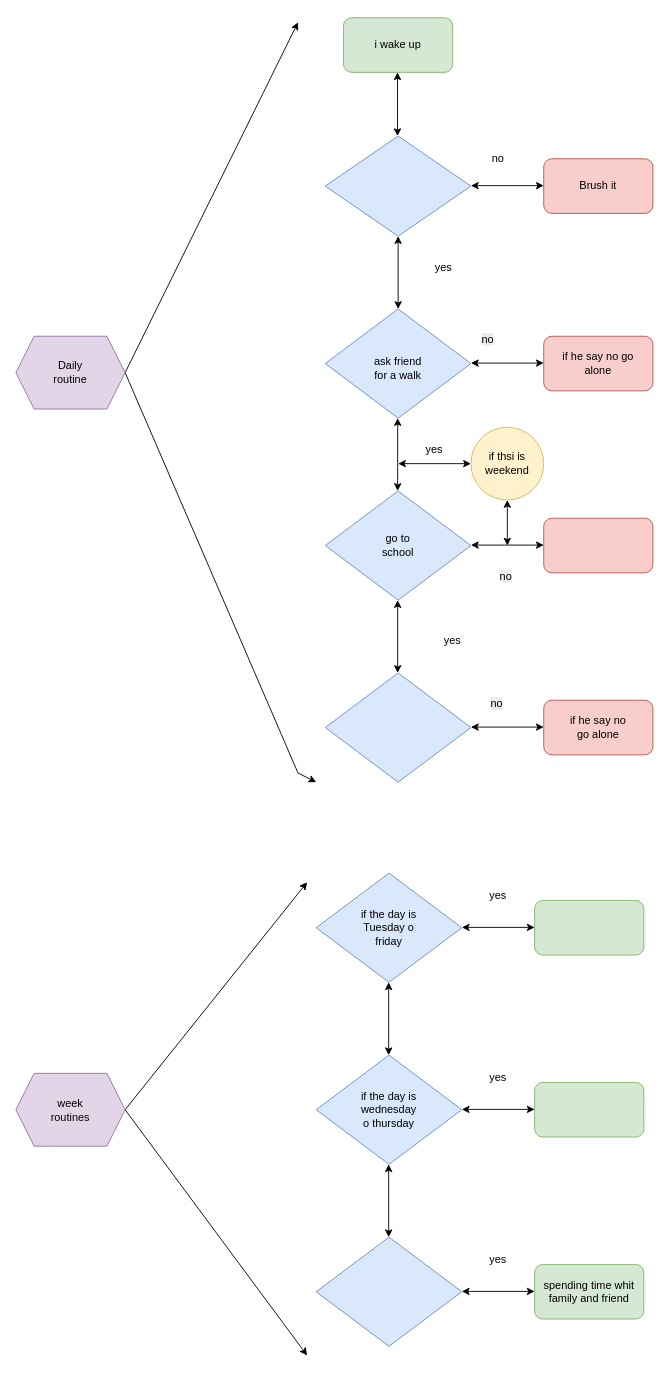
Some shapes in this 669 by 1380 pixel diagram are drawn without their labels. The centre of each missing label's shape, as x and y in pixels:
"around 6pm call my friend for go for football" goes at pixel 397 727.
"Brush my teeth" goes at pixel 397 185.
"get ready for coding classes" goes at pixel 589 1109.
"go for football acedmy" goes at pixel 589 927.
"if the day is monday, saturday o sunday" goes at pixel 388 1291.
"rest" goes at pixel 598 545.
